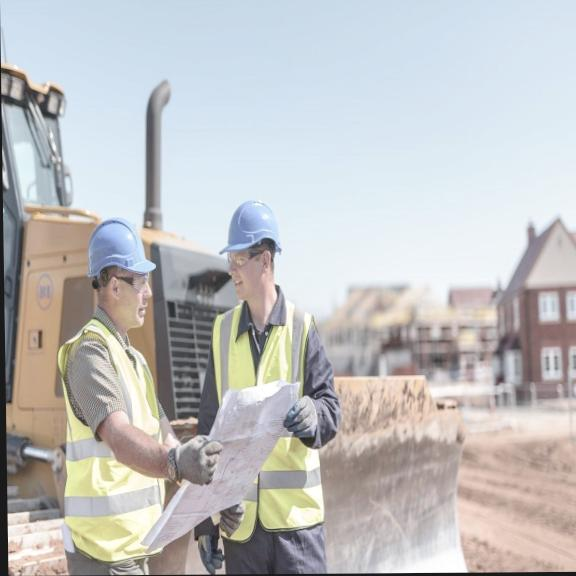safety_vest: (197, 300, 339, 565), (42, 323, 175, 574)
